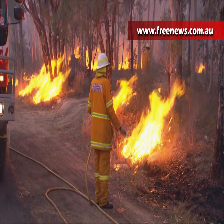fire_h: (120, 77, 187, 163), (14, 55, 71, 105), (112, 76, 136, 114)
fire_l: (90, 48, 100, 70), (118, 55, 130, 71), (195, 62, 205, 73), (74, 45, 80, 59), (85, 45, 88, 70), (11, 78, 19, 86), (140, 53, 143, 69)
